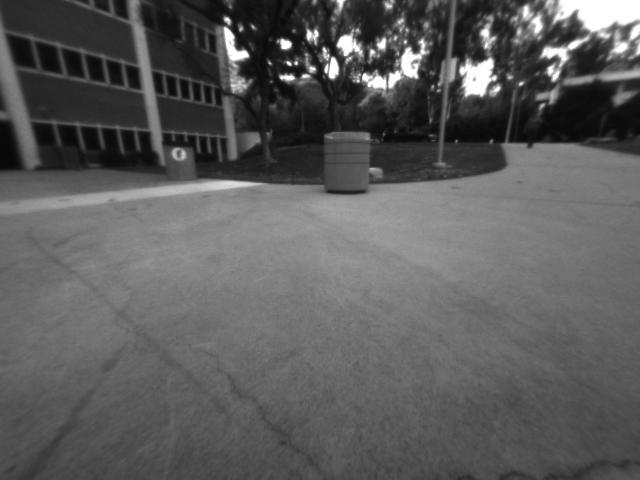trashcan: (317, 126, 371, 198), (156, 133, 201, 183)
